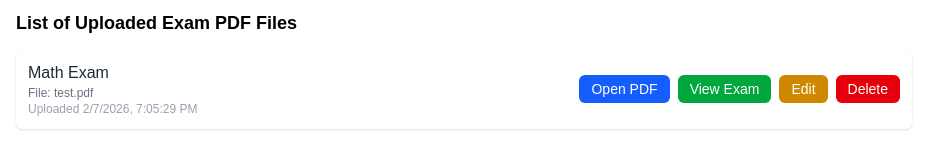
Test: PDFList Component › shows edit input when Edit button is clicked
The image size is (929, 161).
expect the text "Math Exam" is shown: met, box [28, 64, 109, 81]
Click the button "Edit". click: click(803, 89)
box: [779, 75, 828, 103]
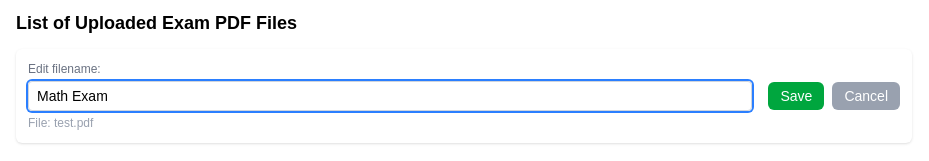
expect the text "Edit filename:" is shown: met, box [28, 62, 101, 76]
expect the field showing "Math Exam" is shown: met, box [28, 81, 752, 111]
